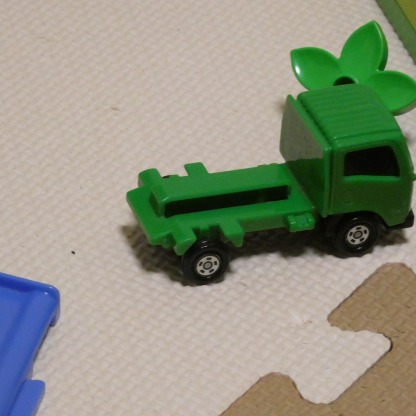car: (126, 81, 410, 284)
